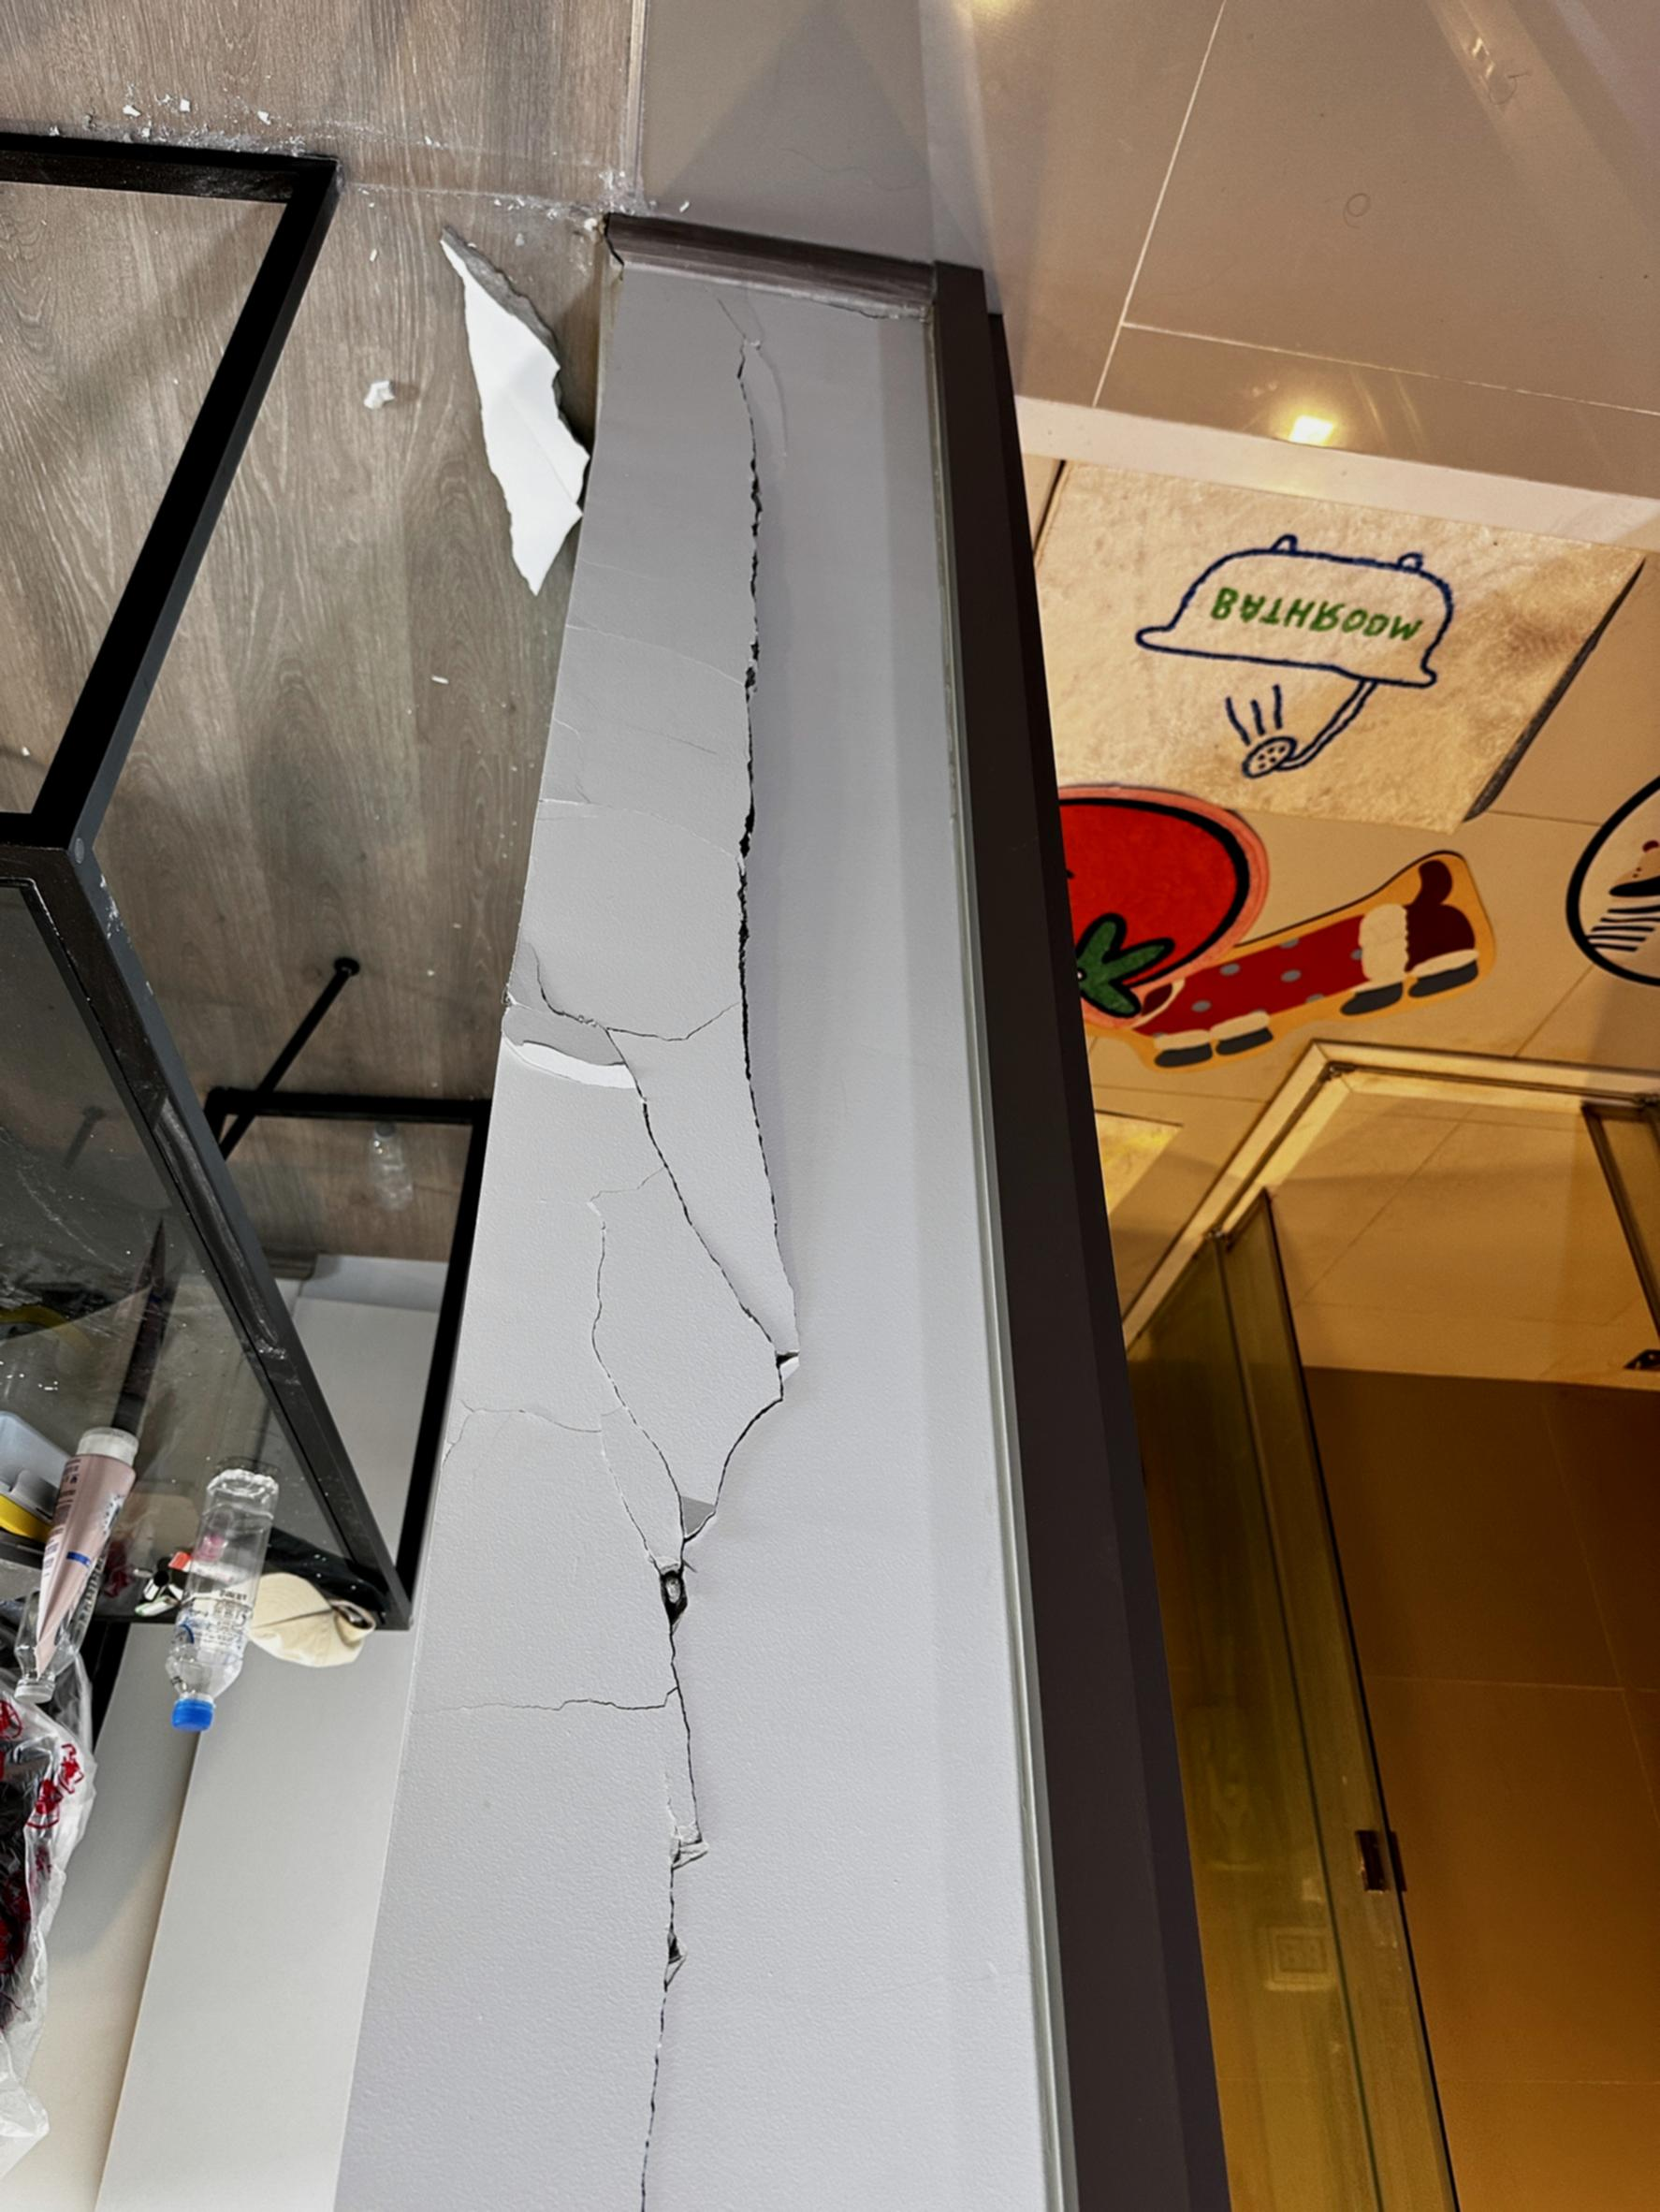High: (509, 267, 839, 2212)
